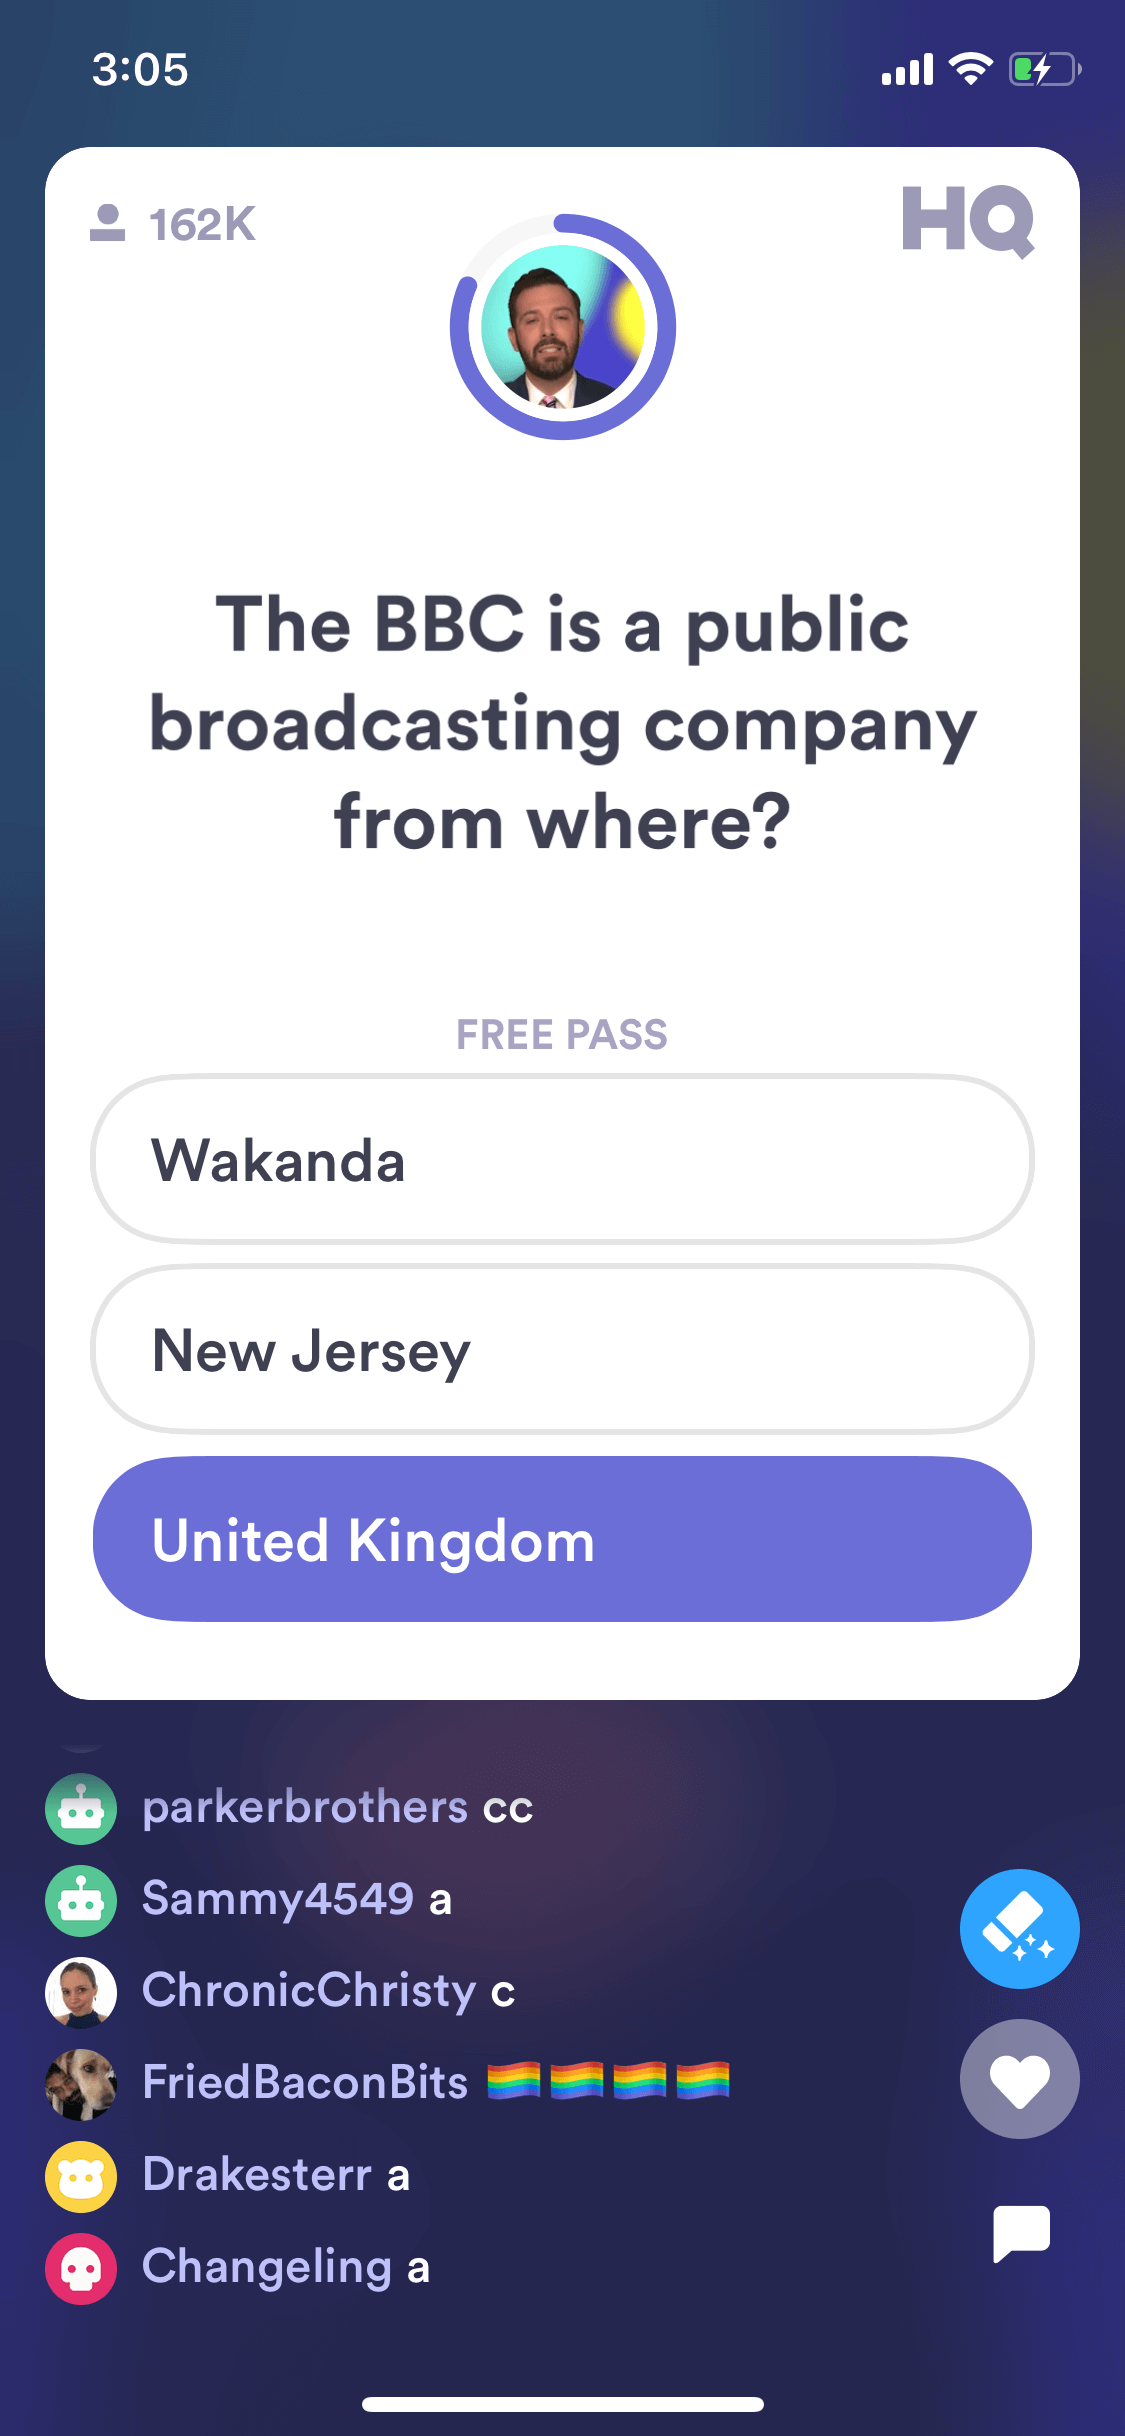FAB (Floating Action Button): (949, 2009, 1091, 2158), (949, 1853, 1091, 2001), (946, 2173, 1089, 2309)
